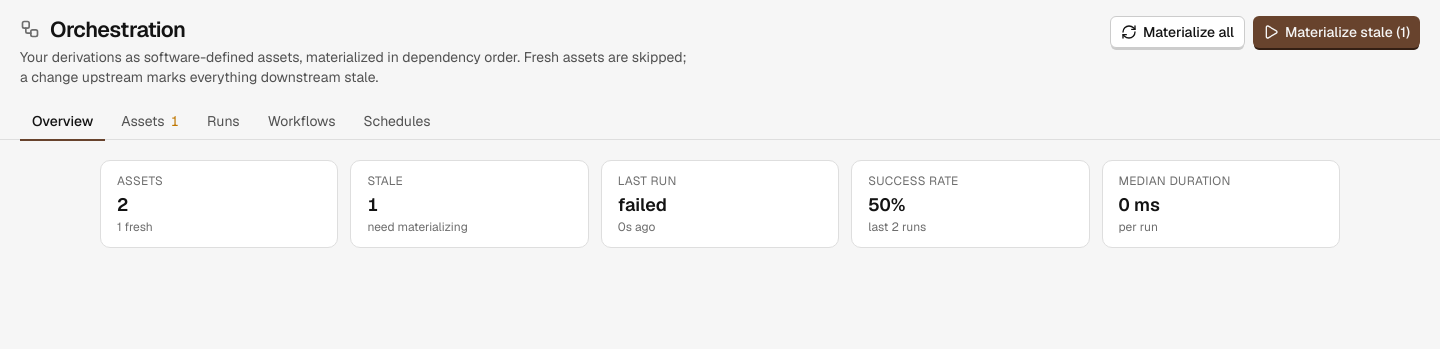
Scenario: OrchestrationPage › switches panels from the tab strip and shows the stale count on Assets
Expected: the tab "Assets 1" is shown, [109,103,191,141]
Expected: the text "Success rate" is shown, [868,173,959,189]
Click the tab "Runs". click: (223, 122)
box: [195,103,252,141]
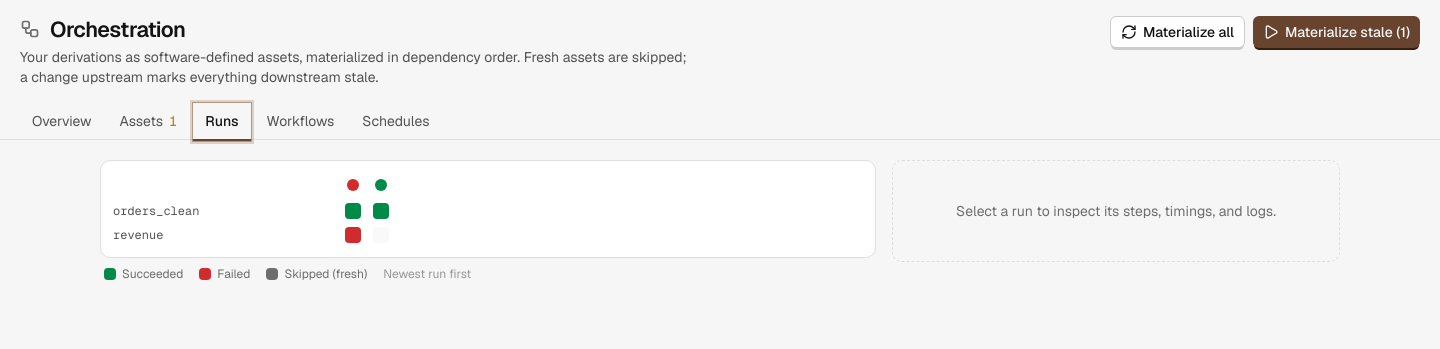
Expected: the text "Select a run to inspect its steps, timings, and logs." is shown, [892,160,1340,262]
Click the tab "Schedules". click: (396, 122)
box: [350,103,442,141]
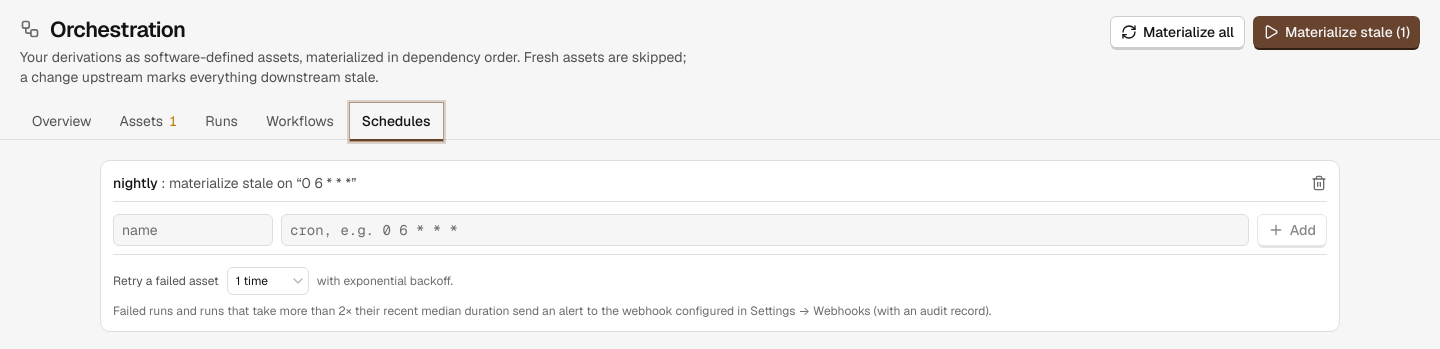
Expected: the text "nightly" is shown, [113,174,158,192]
